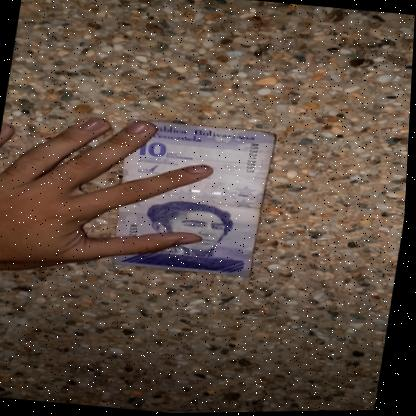ten-front-vef: (108, 116, 277, 279)
